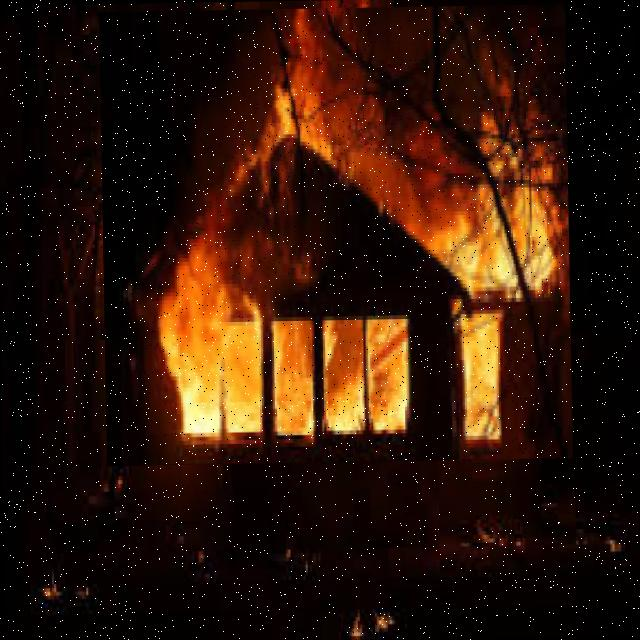fire: (99, 3, 572, 466)
